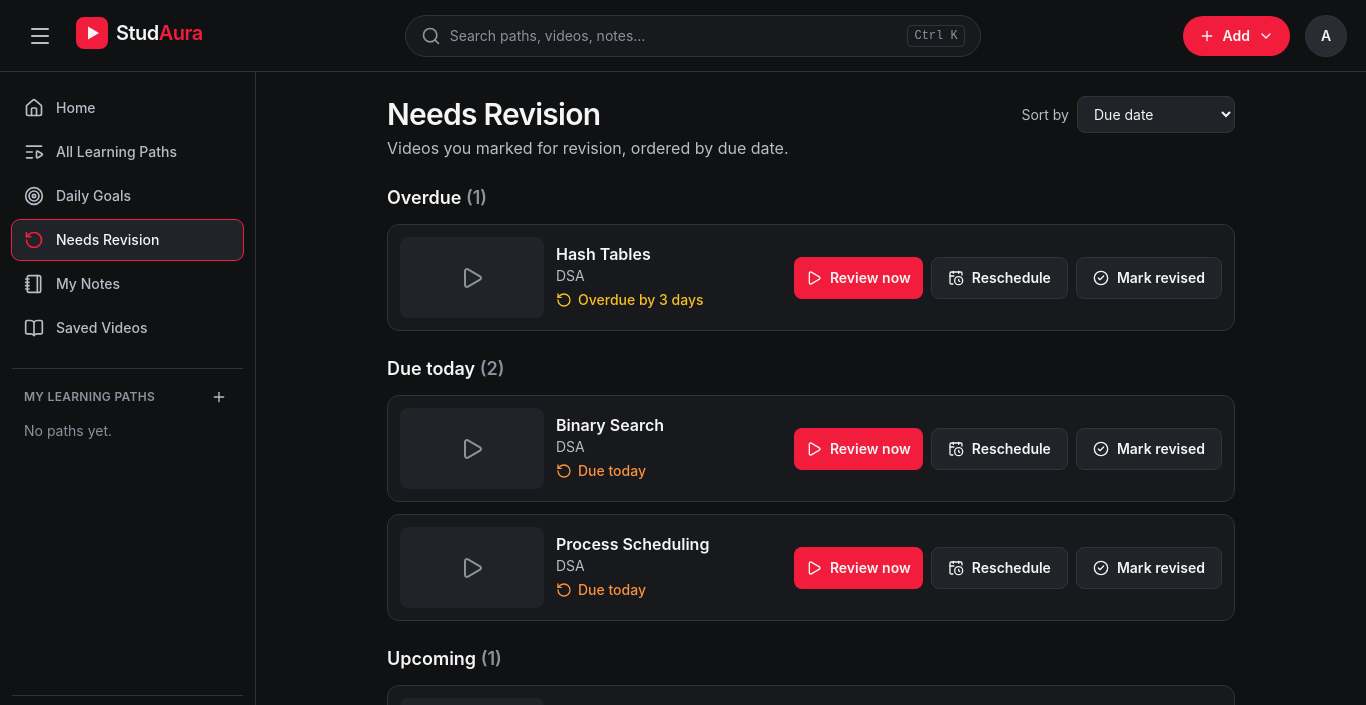
Test: Needs Revision page › shows an error and keeps the row when marking revised fails
The width and height of the screenshot is (1366, 705).
Click the button with aria-label "Mark Hash Tables revised". click: point(1149, 278)
box: [1076,256,1222,298]
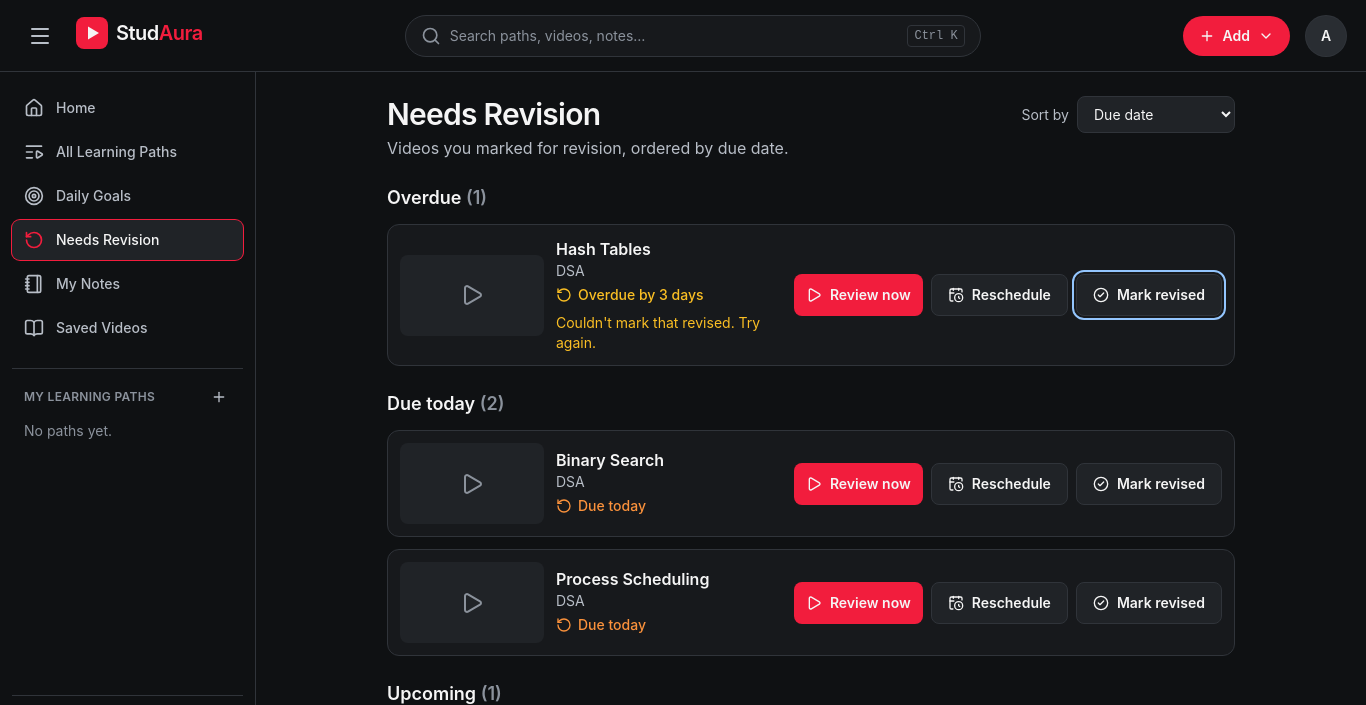
Expected: the heading "Hash Tables" is shown, [556,239,651,259]
Now the message shows "Couldn't mark that revised", box [556,314,760,351]
